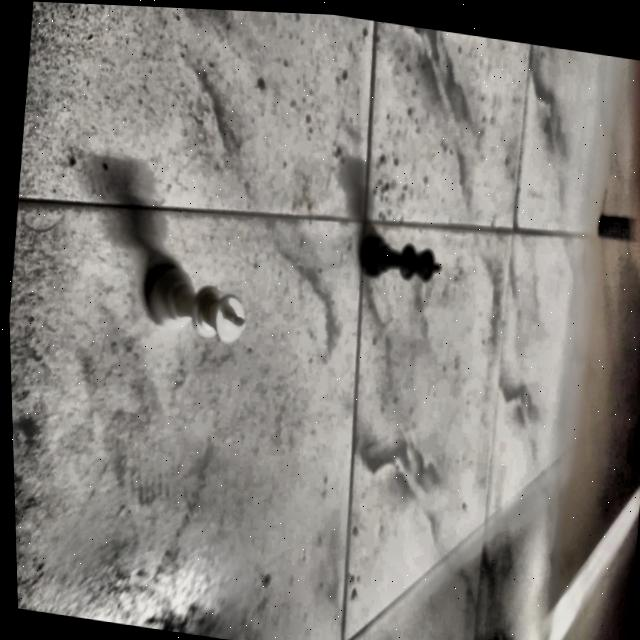BlackKing: (354, 228, 442, 288)
WhiteKing: (138, 259, 252, 349)
